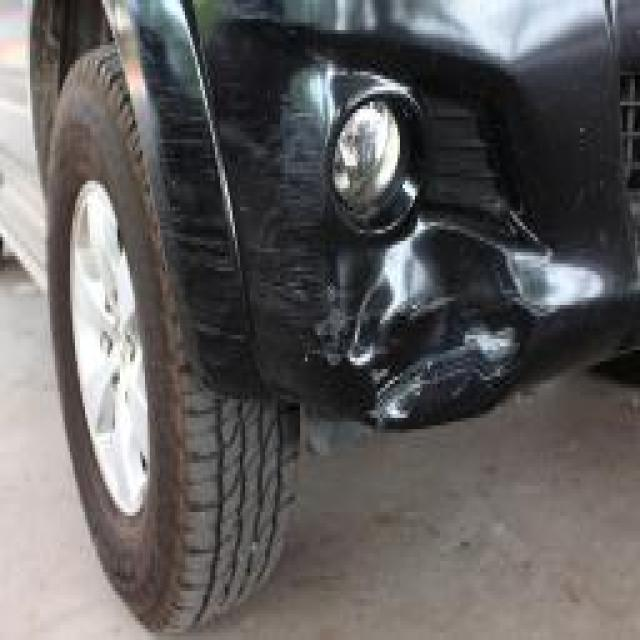Bumper: (128, 0, 640, 392)
